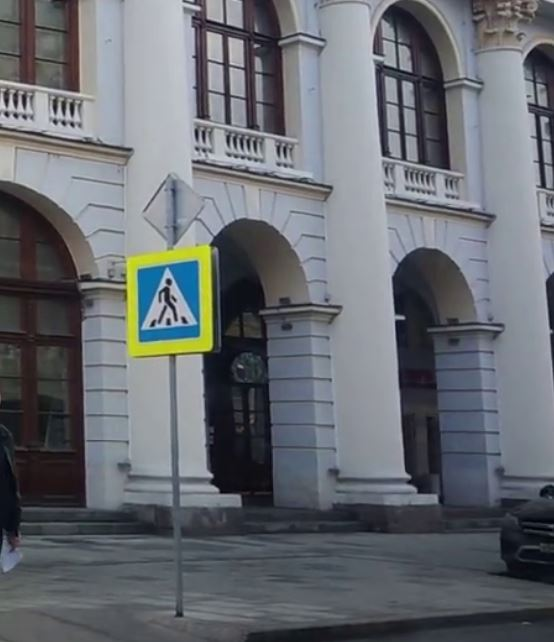Yaya Gecidi: (139, 266, 203, 337)
